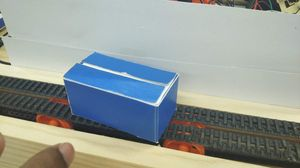box3: (62, 50, 178, 144)
